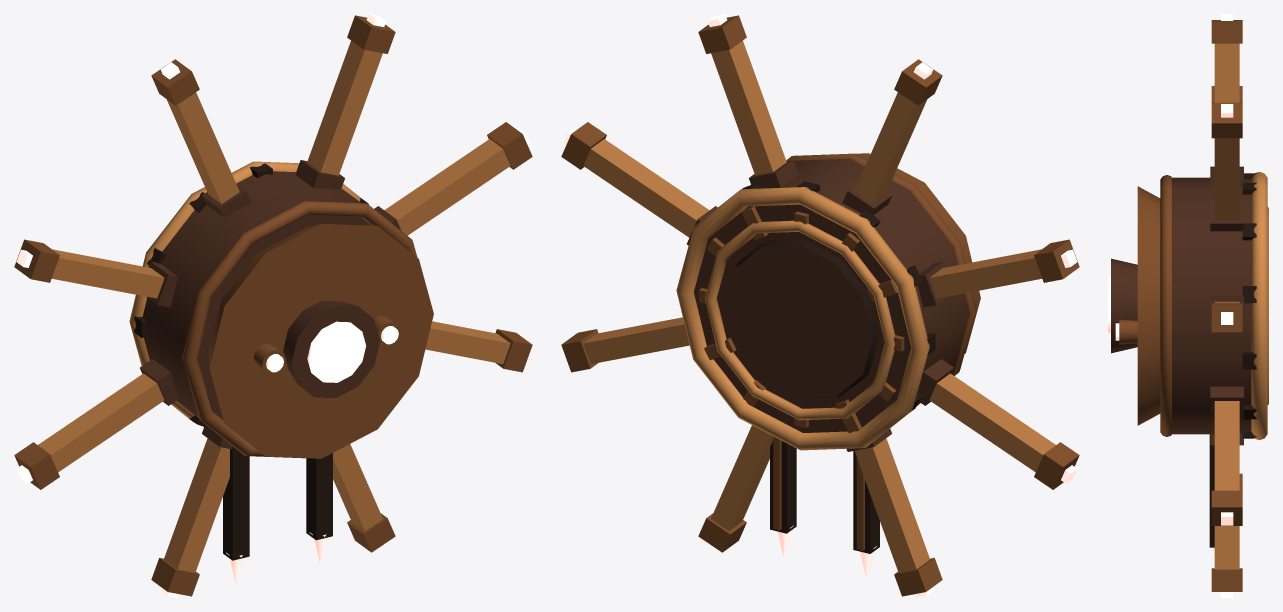
The model's file is helios-tyrant.glb.
3 views of the same model, side by side, from view 1: azimuth 30°, elevation 25°; view 2: azimuth 150°, elevation 25°; view 3: azimuth 270°, elevation 25° (orthographic). The views are drawn at different scales.
Visible parts, largest first — view 1: shell_backplate, shell_drum, shell_rim_back, aft_hub, radial_arm_1, radial_arm_4, radial_arm_0, radial_arm_5, radial_arm_2, radial_arm_3, aft_hub_glow, prong_port (+16 smaller); view 2: shell_drum, shell_rim_front, core_bezel, radial_arm_1, radial_arm_5, radial_arm_4, radial_arm_0, radial_arm_2, radial_arm_3, radial_arm_6, radial_arm_7, shell_rim_back (+18 smaller); view 3: shell_drum, shell_backplate, shell_rim_front, shell_rim_back, radial_arm_7, radial_arm_1, aft_hub, radial_arm_2, radial_arm_6, radial_arm_shoe_1, radial_arm_shoe_7, radial_arm_shoe_0 (+9 smaller).
Part boxes in pixels (x1,y1,x2,y2): shell_backplate: (208, 224, 433, 458); shell_drum: (142, 171, 370, 419); shell_rim_back: (182, 201, 417, 458); aft_hub: (283, 301, 380, 398); radial_arm_1: (307, 40, 382, 175); radial_arm_4: (38, 373, 164, 472); radial_arm_0: (384, 139, 510, 235); radial_arm_5: (164, 438, 229, 572); radial_arm_2: (167, 92, 239, 203); radial_arm_3: (52, 249, 164, 298); aft_hub_glow: (307, 321, 365, 382); prong_port: (223, 446, 249, 560); shell_drum: (694, 158, 969, 432); shell_rim_front: (676, 187, 929, 450); core_bezel: (705, 220, 895, 420); radial_arm_1: (711, 40, 786, 175); radial_arm_5: (854, 438, 929, 572); radial_arm_4: (929, 373, 1055, 472); radial_arm_0: (583, 139, 709, 237); radial_arm_2: (854, 92, 926, 203); radial_arm_3: (929, 249, 1041, 298); radial_arm_6: (711, 425, 773, 530); radial_arm_7: (583, 317, 689, 363); shell_rim_back: (786, 153, 976, 405); shell_drum: (1172, 177, 1251, 434); shell_backplate: (1137, 186, 1160, 425); shell_rim_front: (1251, 172, 1267, 439); shell_rim_back: (1160, 175, 1171, 436); radial_arm_7: (1214, 401, 1239, 490); radial_arm_1: (1214, 138, 1239, 219); aft_hub: (1111, 258, 1137, 353); radial_arm_2: (1214, 43, 1239, 102); radial_arm_6: (1214, 526, 1239, 569); radial_arm_shoe_1: (1211, 102, 1242, 138); radial_arm_shoe_7: (1211, 490, 1242, 525); radial_arm_shoe_0: (1211, 303, 1242, 332).
Bounding box in the file's own units: 115 × 115 × 34.
